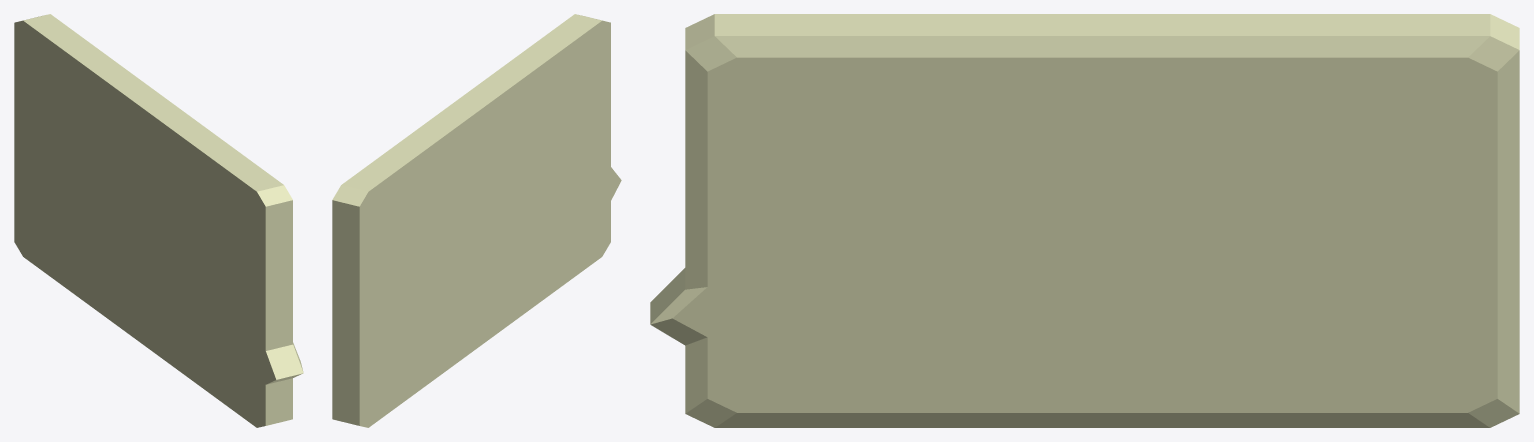
The model's file is dialog box 1.fbx.
The picture shows the model from 3 angles, left to right: view 1: azimuth 30°, elevation 25°; view 2: azimuth 150°, elevation 25°; view 3: azimuth 270°, elevation 25°; orthographic projection. The views are drawn at different scales.
Visible parts, largest first — view 1: Cube.007; view 2: Cube.007; view 3: Cube.007.
Boxes of the visible parts, left/top/right/bottom form: Cube.007: left=14, top=14, right=303, bottom=427; Cube.007: left=332, top=14, right=621, bottom=427; Cube.007: left=650, top=14, right=1519, bottom=427.
Bounding box in the file's own units: 17.84 × 129 × 259.
